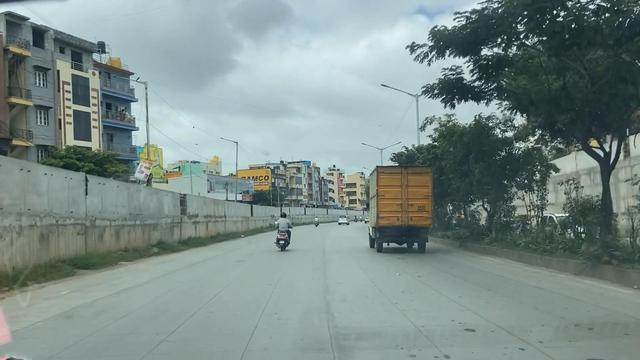HMV: (364, 159, 444, 265)
